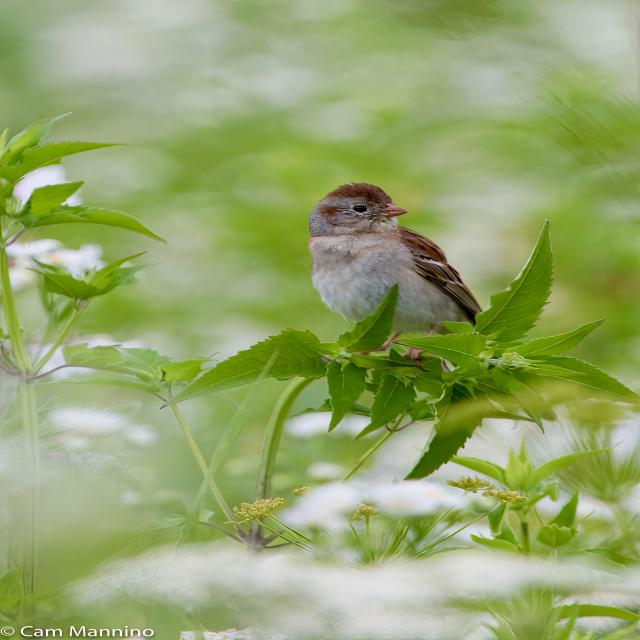Sparrow: (319, 178, 493, 368)
